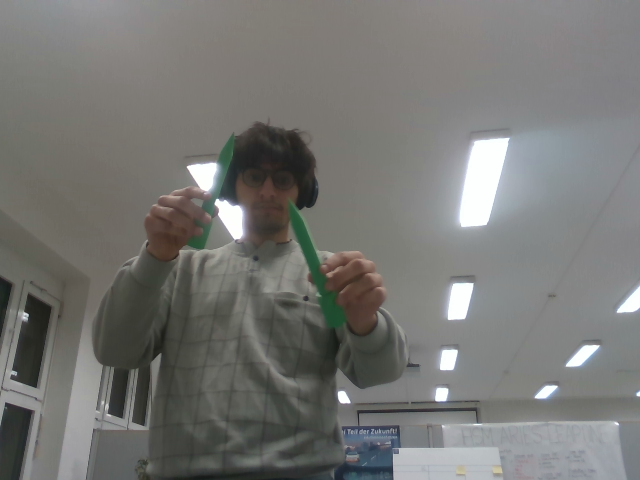Probe: (284, 194, 350, 330), (184, 129, 238, 252)
